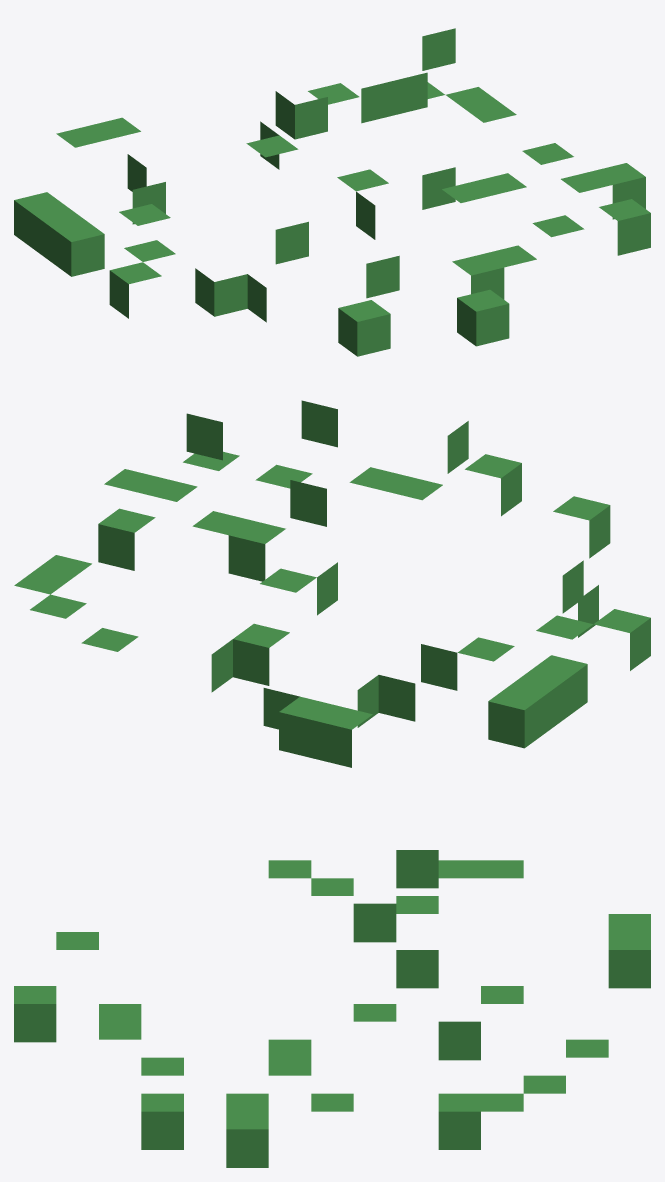
The model's file is tree-pine-1p2-4a9a4e.gltf.
3 renders of one model, top to bottom at view 1: azimuth 30°, elevation 25°; view 2: azimuth 150°, elevation 25°; view 3: azimuth 270°, elevation 25°, orthographic. The views are drawn at different scales.
Parts seen in each view (by area): view 1: tree-pine-1p2-4a9a4e; view 2: tree-pine-1p2-4a9a4e; view 3: tree-pine-1p2-4a9a4e.
Part boxes in pixels (bbox=[...]): tree-pine-1p2-4a9a4e: bbox=[14, 28, 650, 356]; tree-pine-1p2-4a9a4e: bbox=[14, 400, 650, 767]; tree-pine-1p2-4a9a4e: bbox=[14, 850, 650, 1167].
Size of the model in its own units: 15 by 5 by 15.
